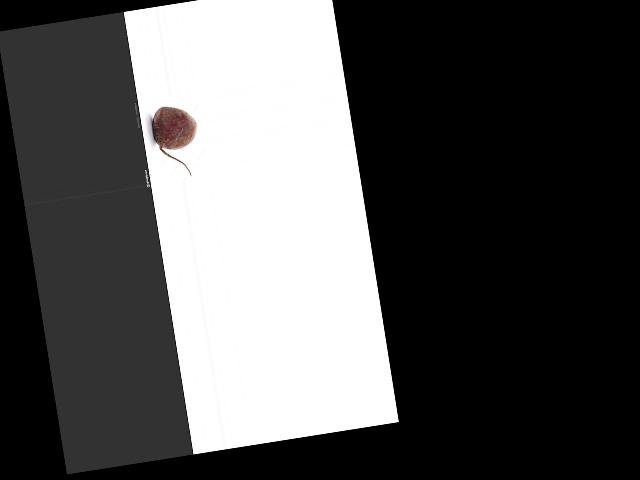beet: (149, 102, 203, 180)
